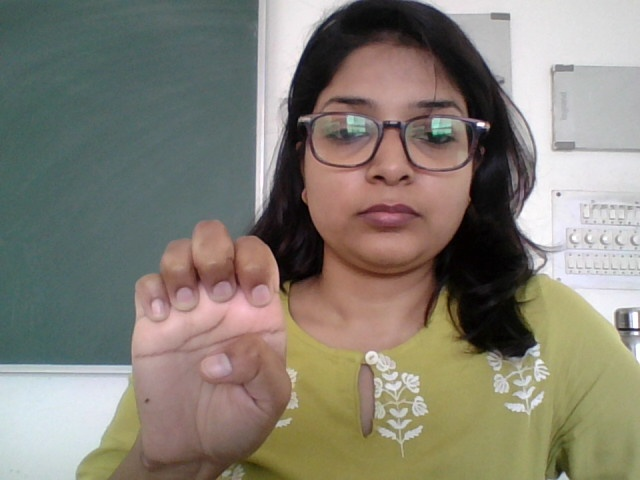E: (125, 216, 295, 462)
